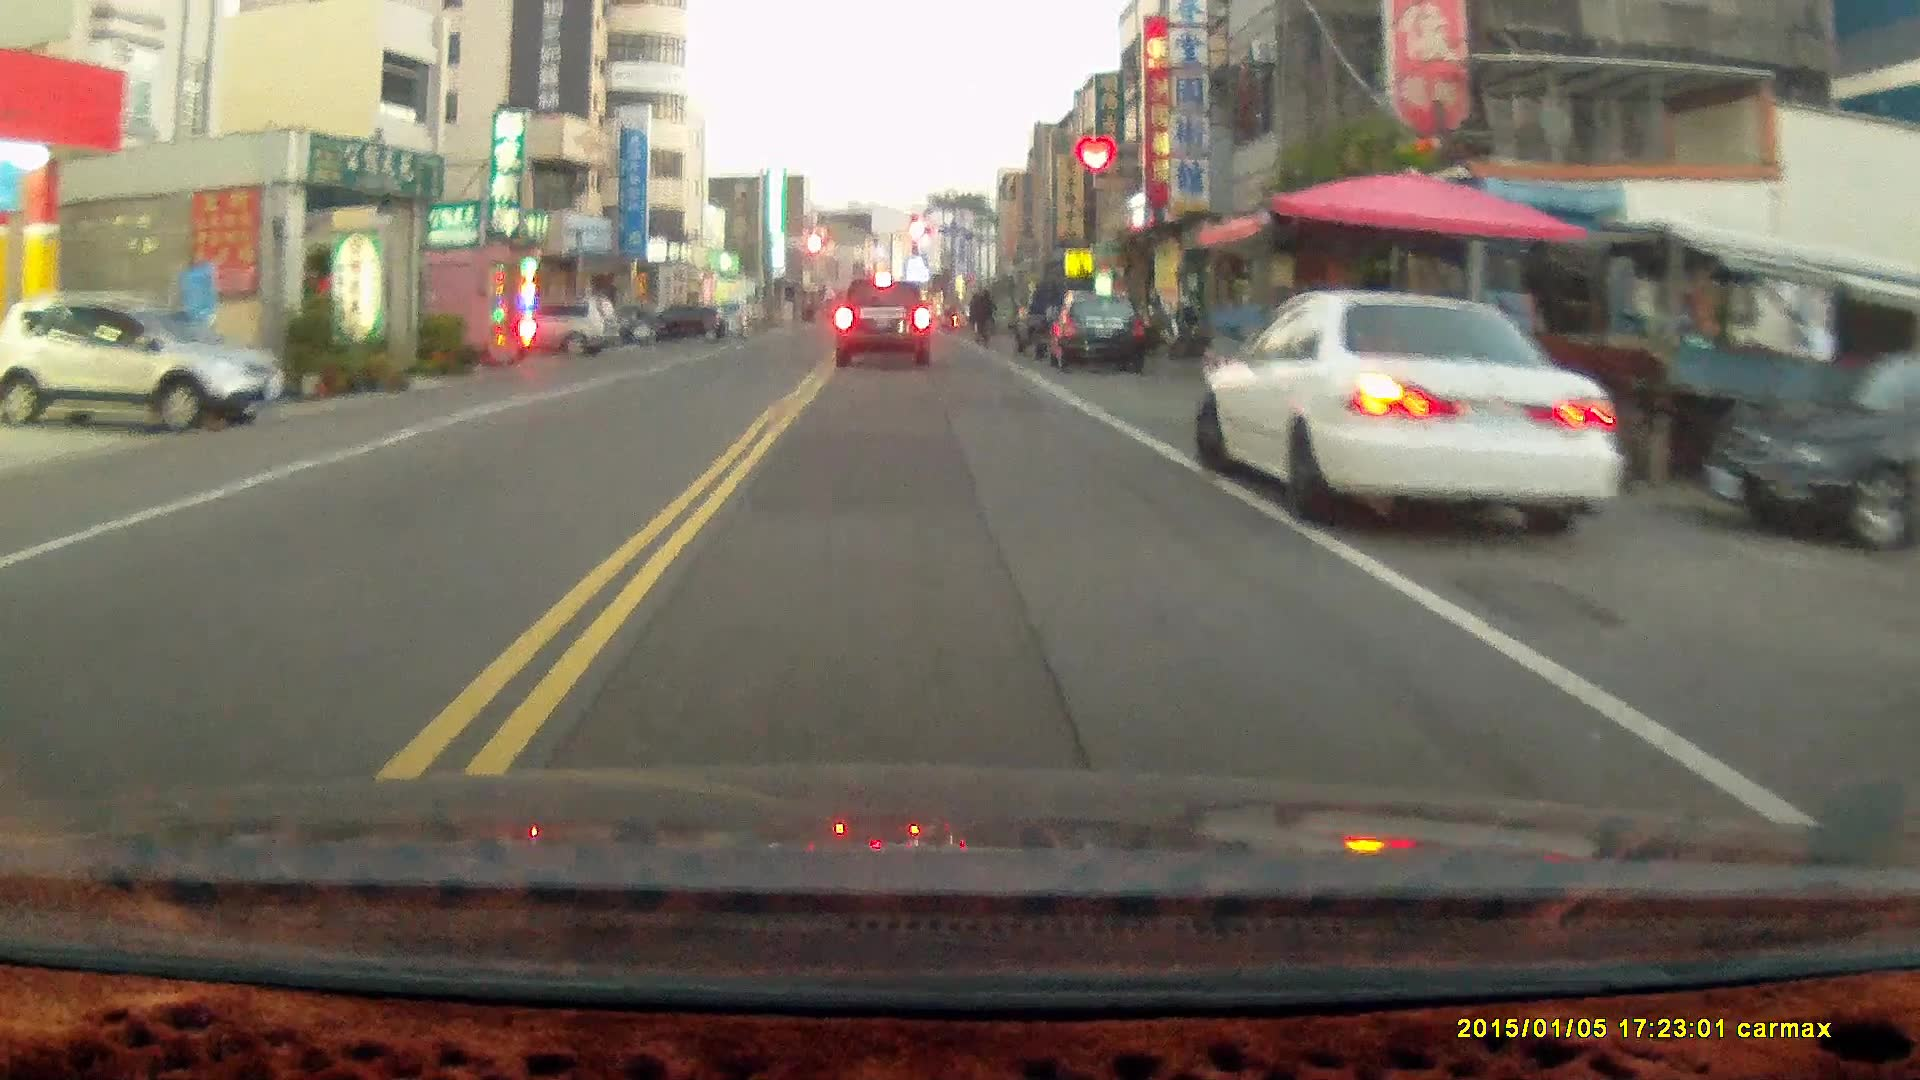rider: (969, 284, 997, 351)
vehicle: (1198, 282, 1624, 538), (1696, 344, 1920, 549), (2, 286, 285, 431), (837, 276, 933, 369), (1048, 288, 1155, 367), (505, 296, 620, 354)
